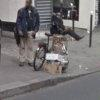Bicycle: (25, 27, 69, 79)
